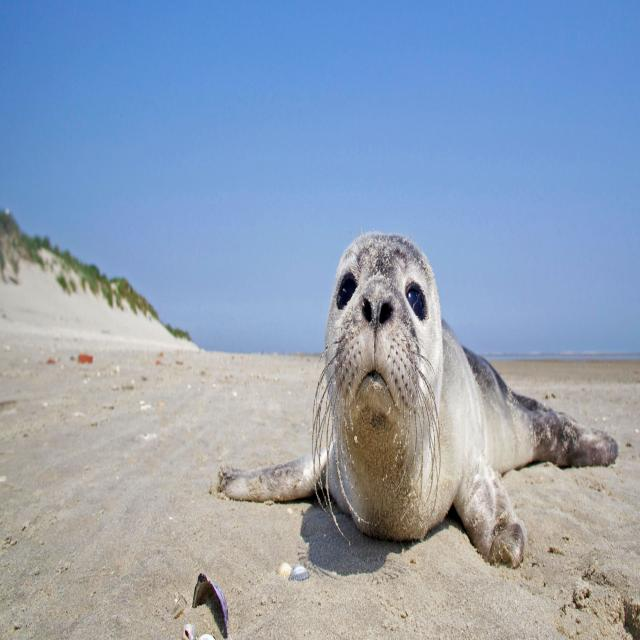WaterDog: (217, 228, 624, 576)
